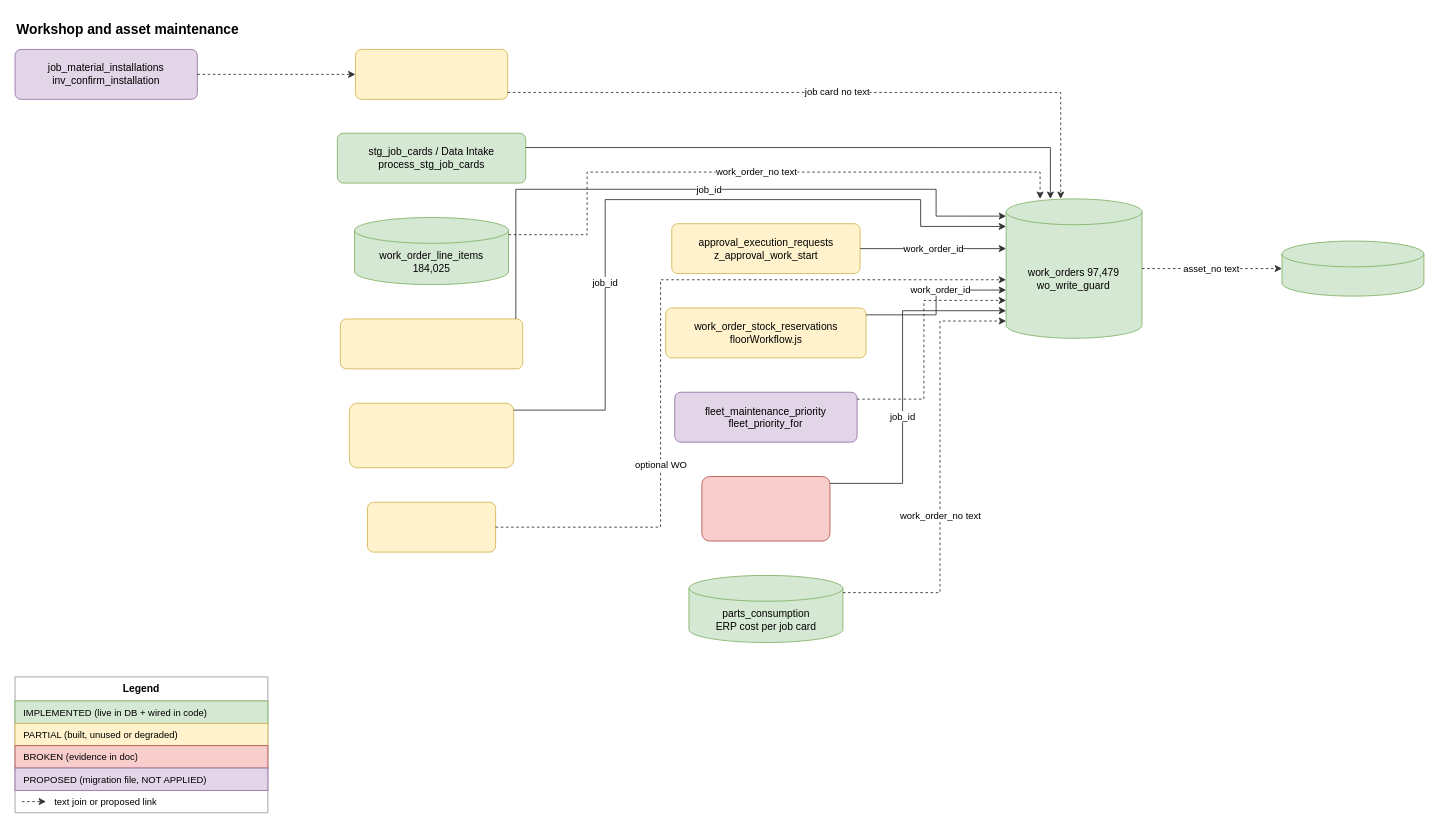
Some shapes in this 1440 by 828 pixel diagram are drawn without their labels. The centre of each missing label's shape, as x and y in pixels:
"material_issues inv_issue to job card" belongs at (x=431, y=74).
"parts_requests -> parts_catalog empty catalogue" belongs at (x=765, y=508).
"pm_programs 3 record_pm_service" belongs at (x=431, y=526).
"tech_activity_events 37 Flutter workshop + WorkshopLive" belongs at (x=431, y=435).
"vehicle_fleet 1,623" belongs at (x=1352, y=268).
"wo_tasks 0, wo_assignments workshopLive.js" belongs at (x=431, y=343).
